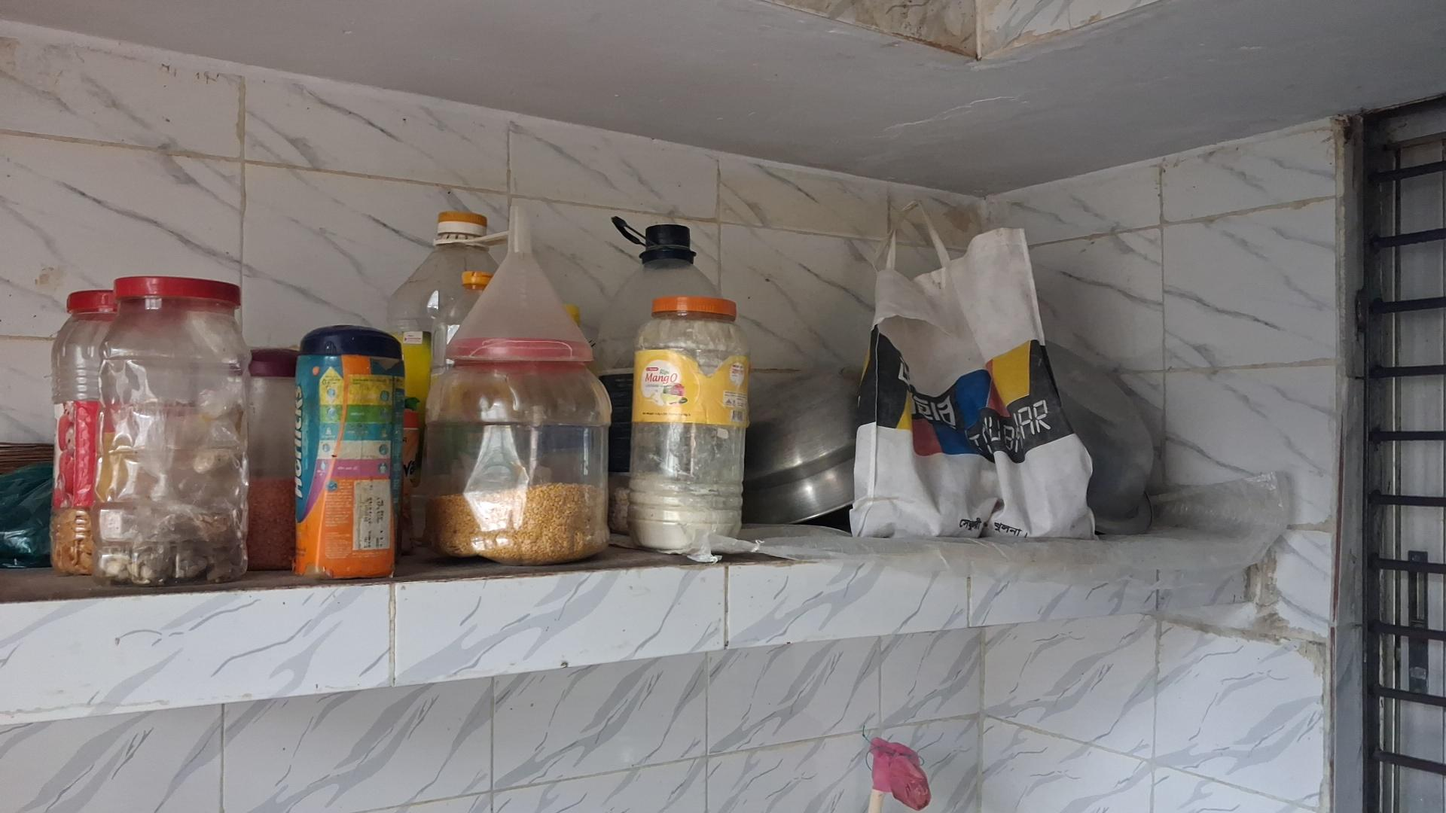Bag: (860, 206, 1087, 551)
Bottle: (592, 219, 719, 535), (385, 211, 502, 542)
Jar: (420, 202, 613, 565), (92, 275, 251, 587), (629, 294, 751, 554), (294, 323, 405, 580), (50, 290, 117, 577)
Pot: (758, 382, 854, 524)
